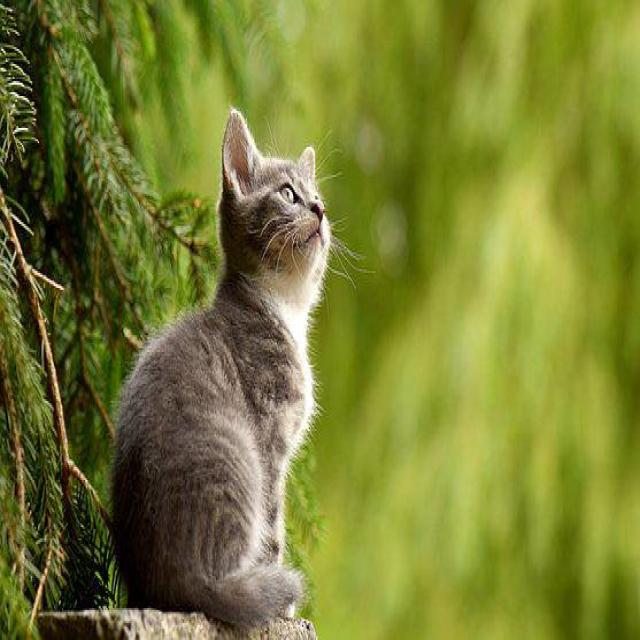Cat: (218, 102, 336, 294)
